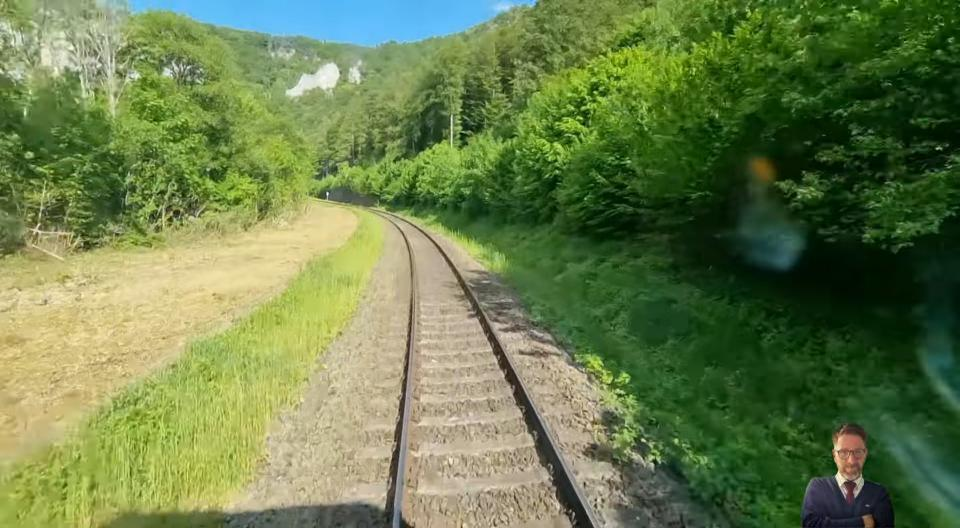Plant: (520, 292, 774, 528)
